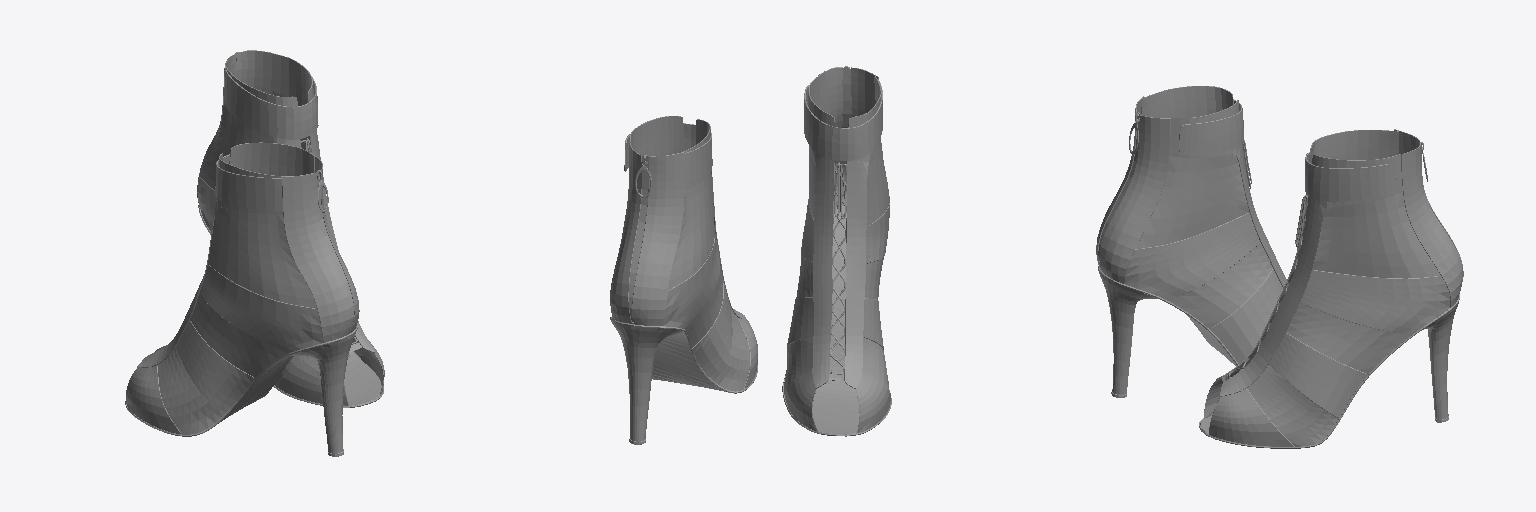
3 views of the same model, side by side, from view 1: azimuth 30°, elevation 25°; view 2: azimuth 150°, elevation 25°; view 3: azimuth 270°, elevation 25° (orthographic).
Visible parts, largest first — view 1: 2-_UniqueID_6, 0-_R; view 2: 2-_UniqueID_6, 0-_R; view 3: 0-_R, 2-_UniqueID_6.
Part boxes in pixels (x1,y1,x2,y2): 2-_UniqueID_6: (125,142,359,456); 0-_R: (197,50,384,407); 2-_UniqueID_6: (782,66,891,436); 0-_R: (610,116,757,444); 0-_R: (1199,129,1463,448); 2-_UniqueID_6: (1096,86,1286,397).
Size of the model in its own units: 0.1827 by 0.2137 by 0.255.